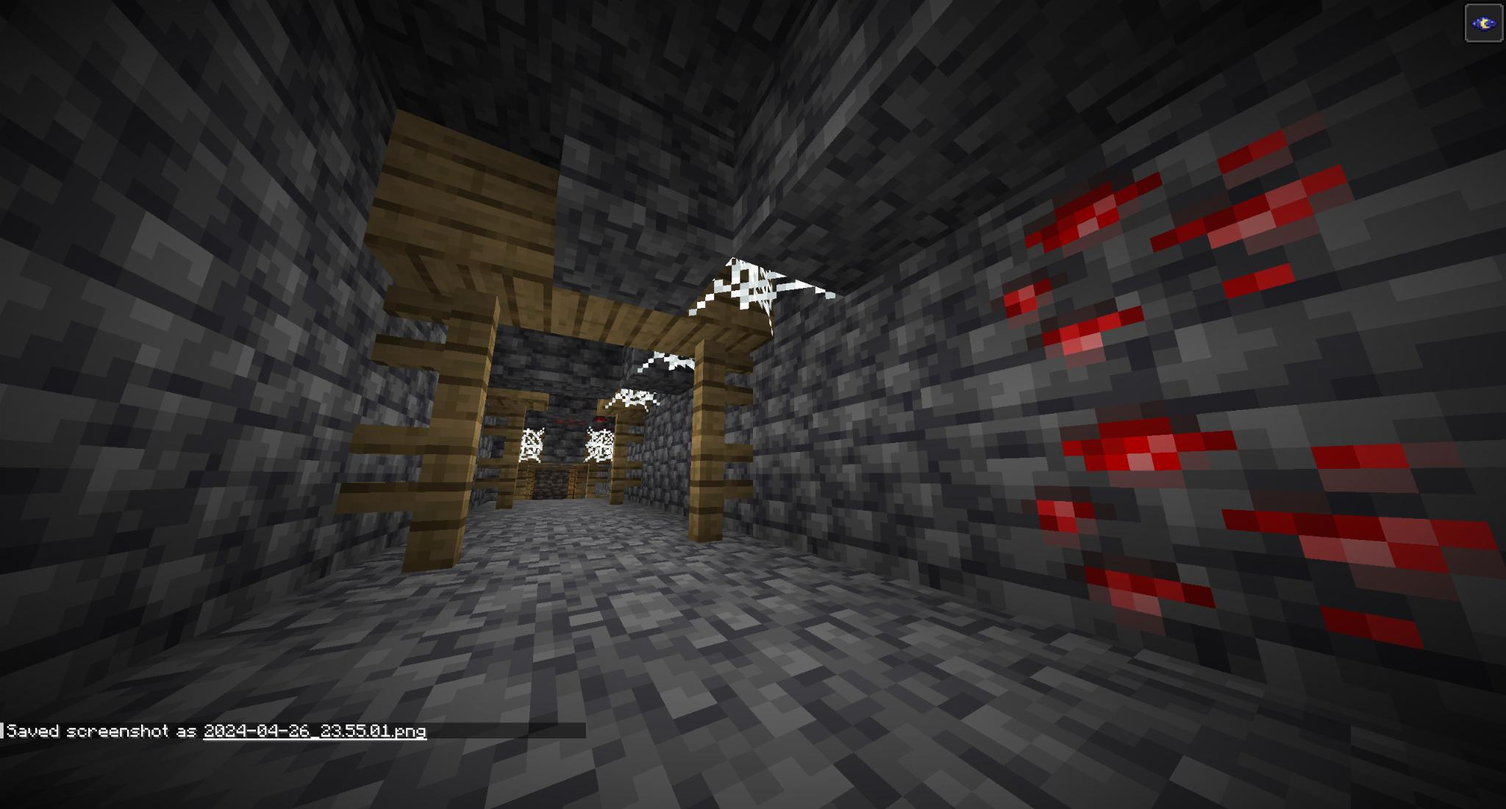redstone ore: (993, 384, 1476, 702), (993, 137, 1372, 402)
